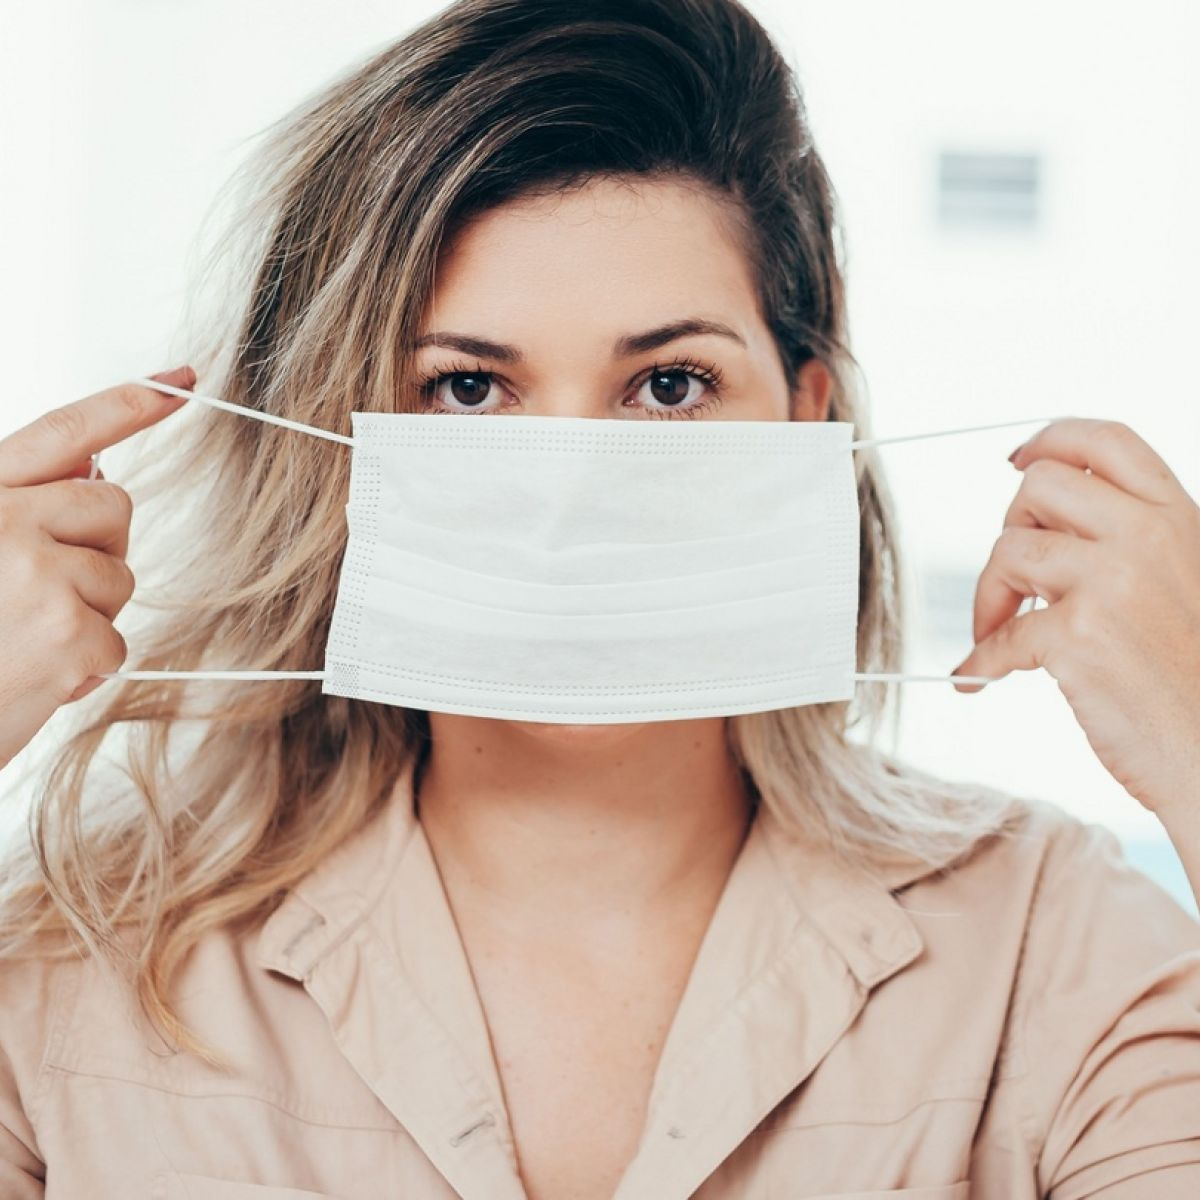with_mask: (373, 180, 785, 716)
